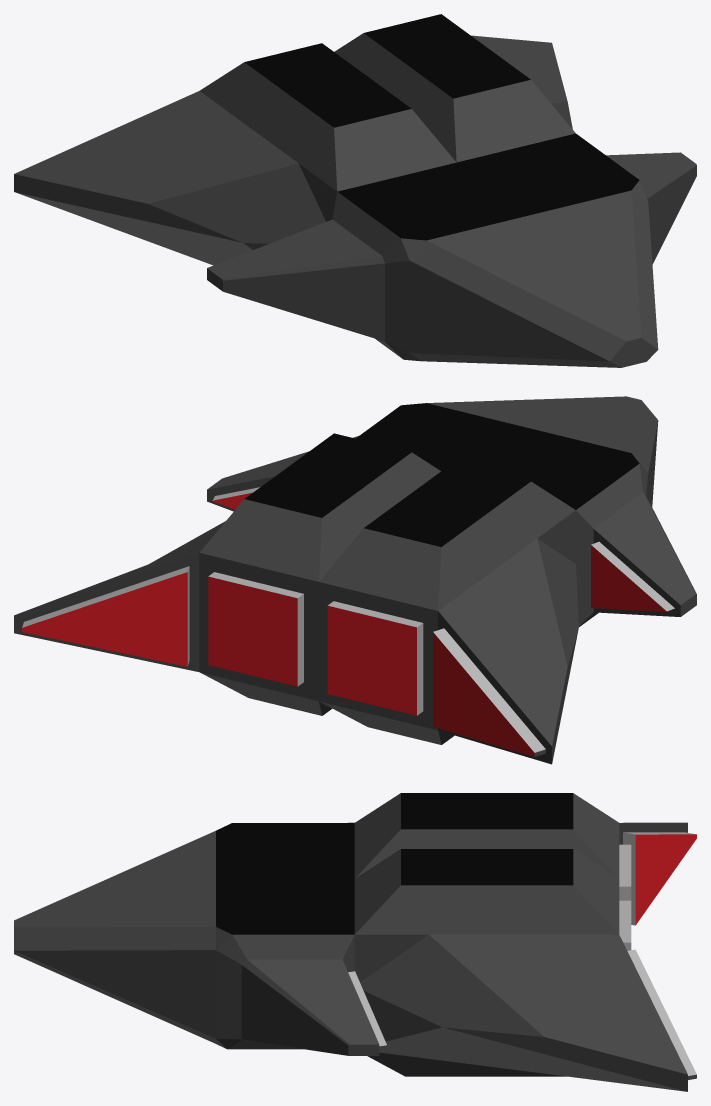
Rendered from ship8.fbx.
The picture shows the model from 3 angles, top to bottom: view 1: azimuth 30°, elevation 25°; view 2: azimuth 150°, elevation 25°; view 3: azimuth 270°, elevation 25°; orthographic projection. The views are drawn at different scales.
Parts seen in each view (by area): view 1: Cube; view 2: Cube; view 3: Cube.
Part boxes in pixels (box(x1,y1,x2,y2)): Cube: box(14, 14, 696, 367); Cube: box(14, 396, 696, 764); Cube: box(14, 793, 696, 1091).
Size of the model in its own units: 451 by 160 by 516.
